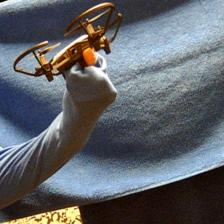drone: (12, 2, 122, 85)
